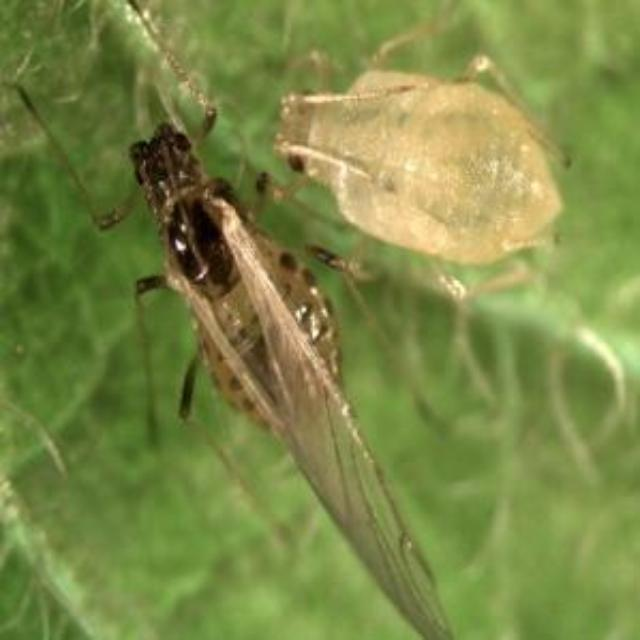Green peach aphid: (22, 31, 448, 627), (257, 28, 589, 308)
